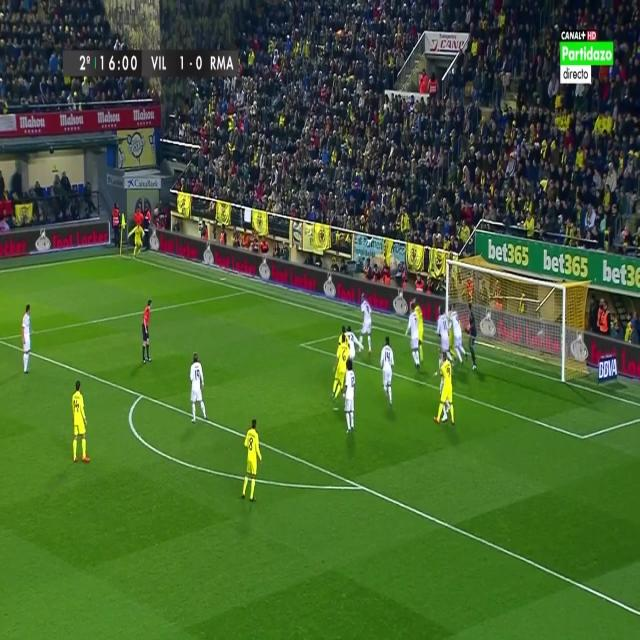Ball: (151, 203, 161, 220)
Goalkeeper: (463, 300, 482, 378)
Player: (237, 415, 266, 504), (185, 352, 212, 428), (70, 378, 93, 466), (328, 332, 352, 405), (434, 354, 456, 425), (448, 300, 469, 369), (344, 355, 360, 438), (403, 303, 422, 372), (380, 334, 397, 411), (357, 288, 374, 357), (20, 301, 34, 376), (414, 297, 427, 365), (125, 221, 146, 261), (436, 305, 450, 356)
Referee: (139, 298, 154, 367)
